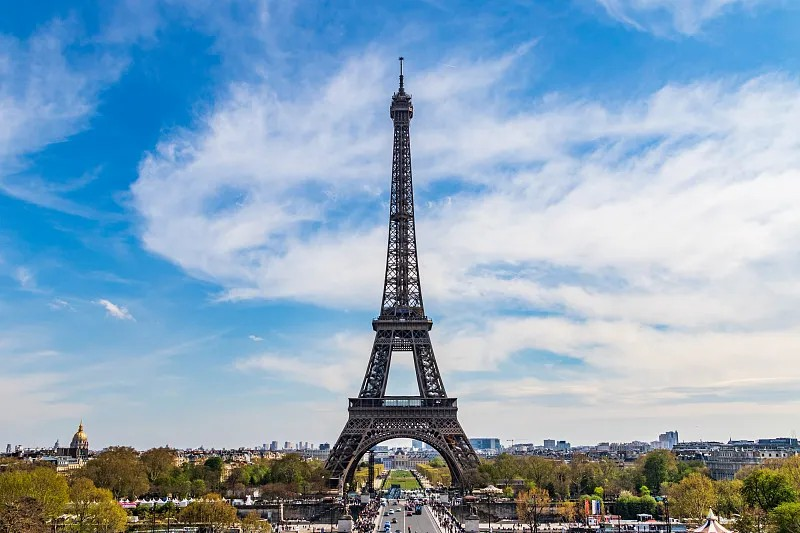Eiffel: (321, 58, 489, 492)
